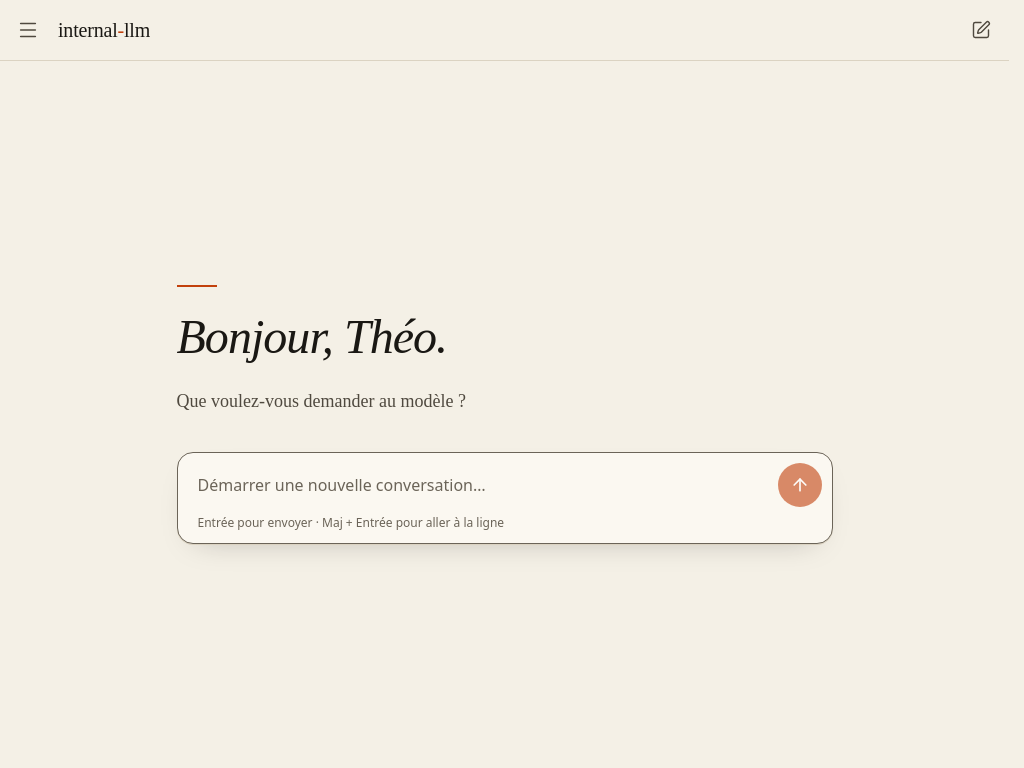
app shell on mobile › docks the sidebar when the window becomes wide
Expected: the heading "Bonjour, Théo." is shown, [176,310,447,363]
Click the button named "Ouvrir la navigation" at (28, 30), box [6,8,50,52]
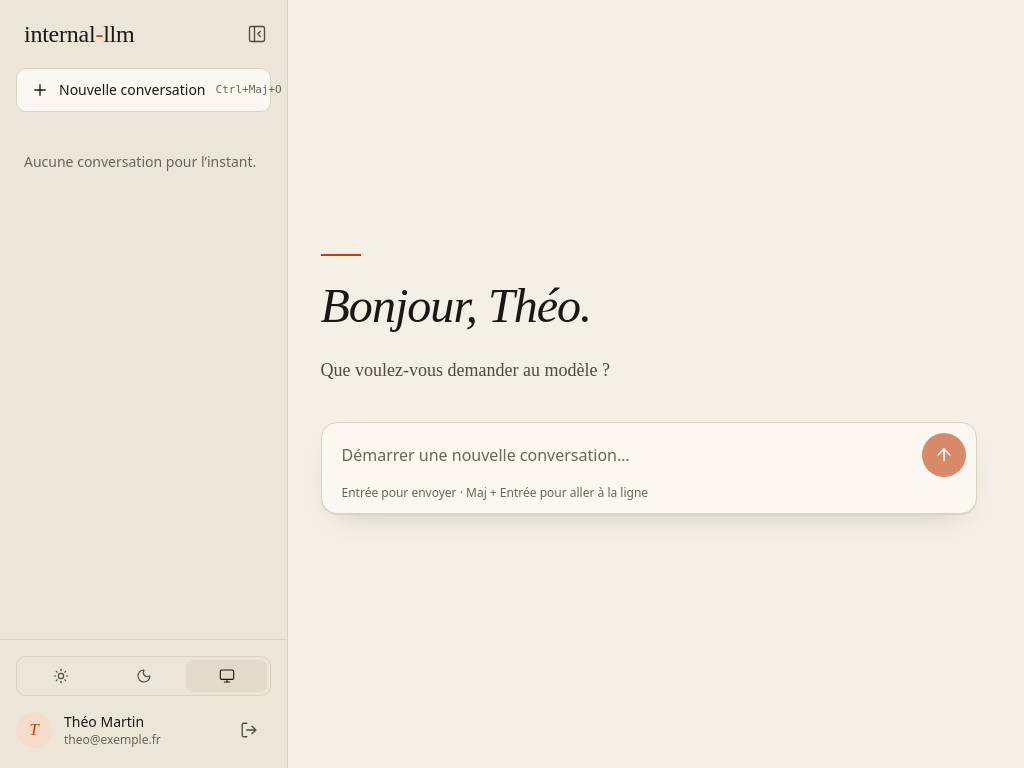
Result: the element that starts with "internal" is shown at [0,0,288,767]
